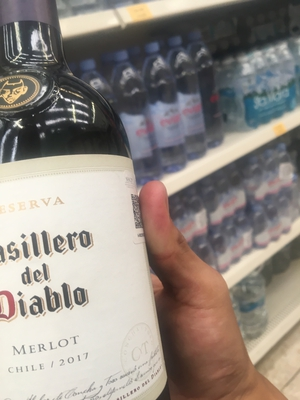casillero del diablo merlot: (1, 3, 180, 400)
